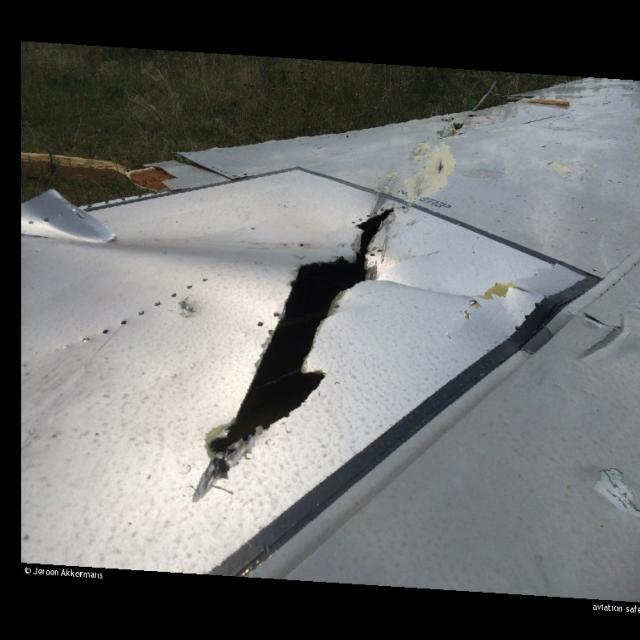crack: (188, 206, 399, 501), (438, 161, 446, 174)
